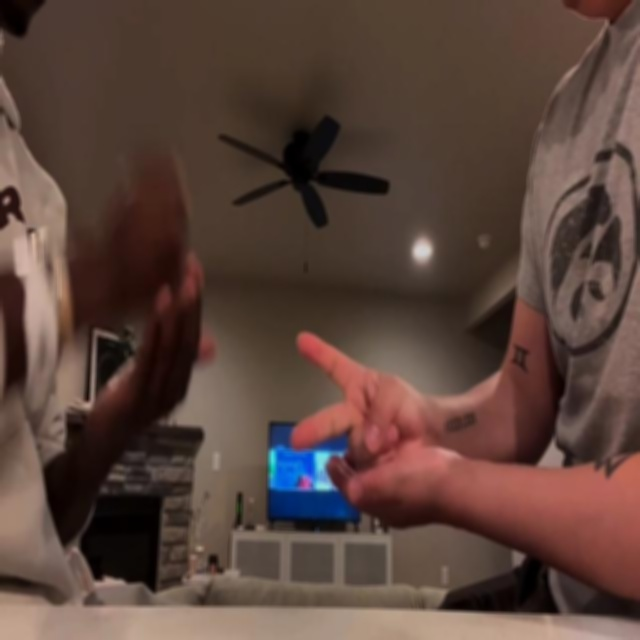Rock: (103, 149, 190, 312)
Scissors: (292, 333, 428, 472)
